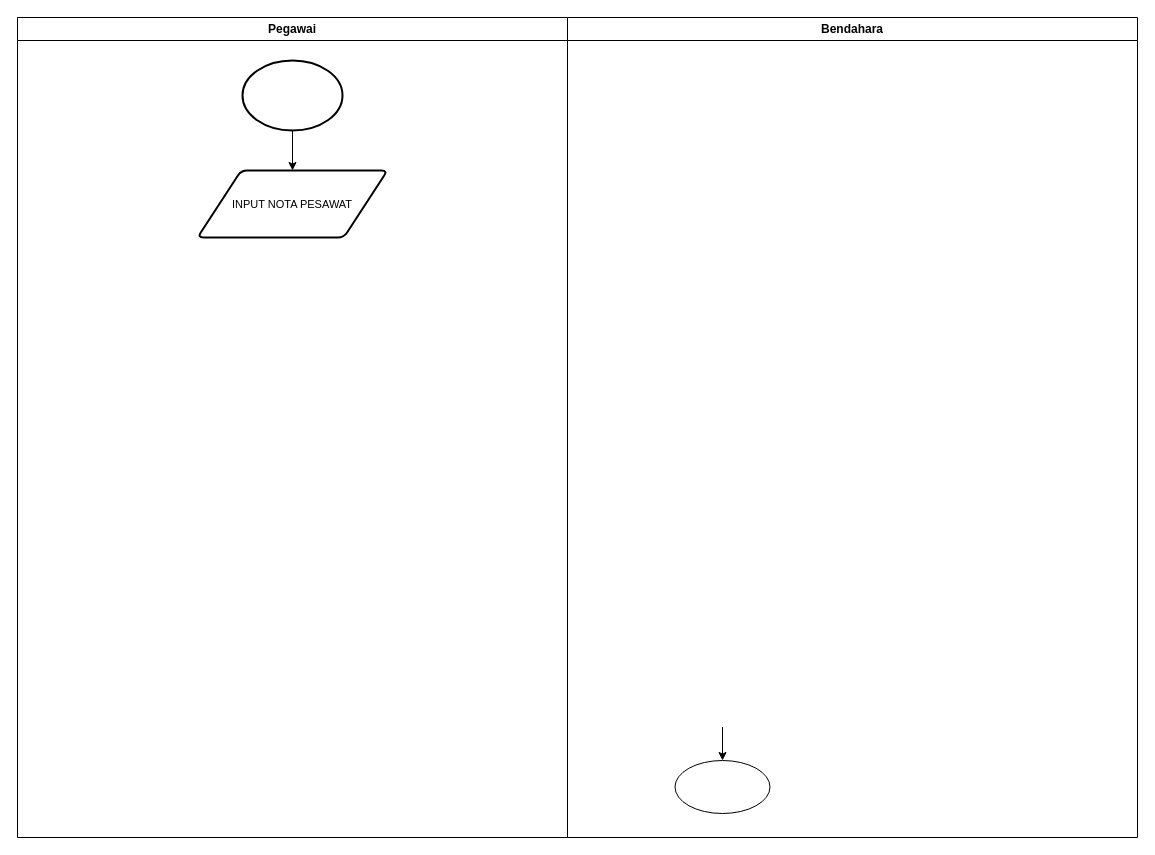
Image size: 1155x855. Some labels were removed from this diagram. Each missing label, with the centre of its shape:
MULAI: [292,95]
SELESAI: [722,787]
